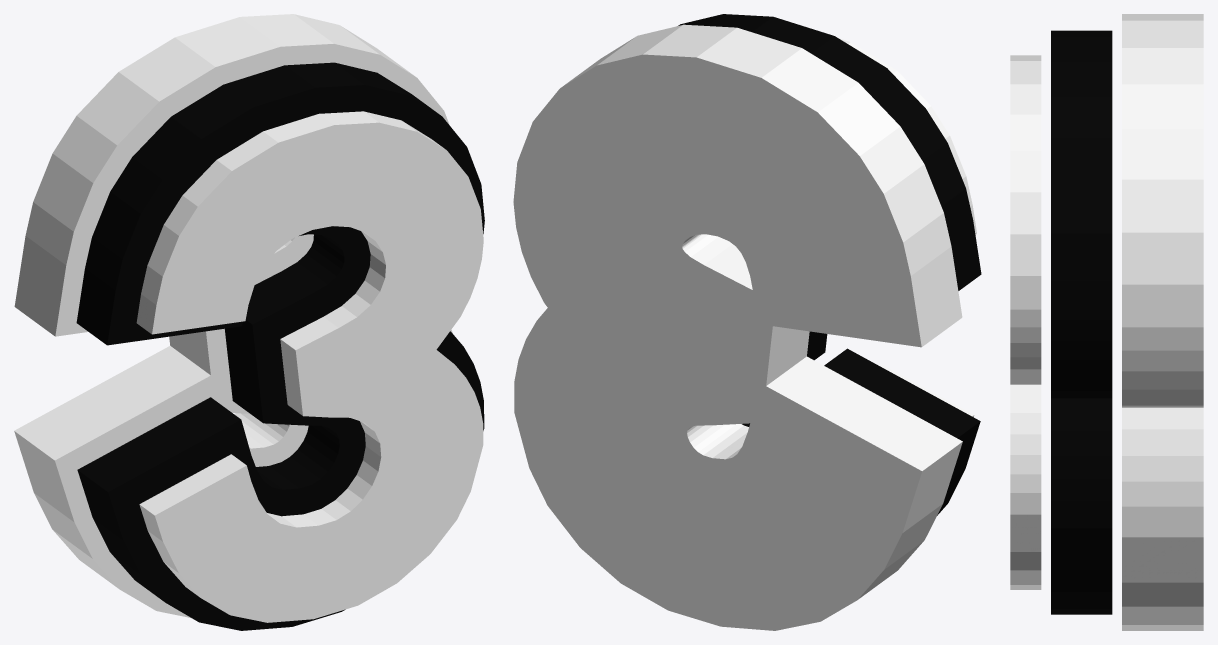
The picture shows the model from 3 angles, left to right: view 1: azimuth 30°, elevation 25°; view 2: azimuth 150°, elevation 25°; view 3: azimuth 270°, elevation 25°; orthographic projection.
Visible parts, largest first — view 1: テキスト.002_テキスト.005; view 2: テキスト.002_テキスト.005; view 3: テキスト.002_テキスト.005.
Boxes of the visible parts, left/top/right/bottom form: テキスト.002_テキスト.005: left=14, top=14, right=484, bottom=630; テキスト.002_テキスト.005: left=513, top=14, right=981, bottom=630; テキスト.002_テキスト.005: left=1010, top=14, right=1203, bottom=630.
Bounding box in the file's own units: 0.9326 × 1.23 × 0.3809.
1 material, 1 textured.
